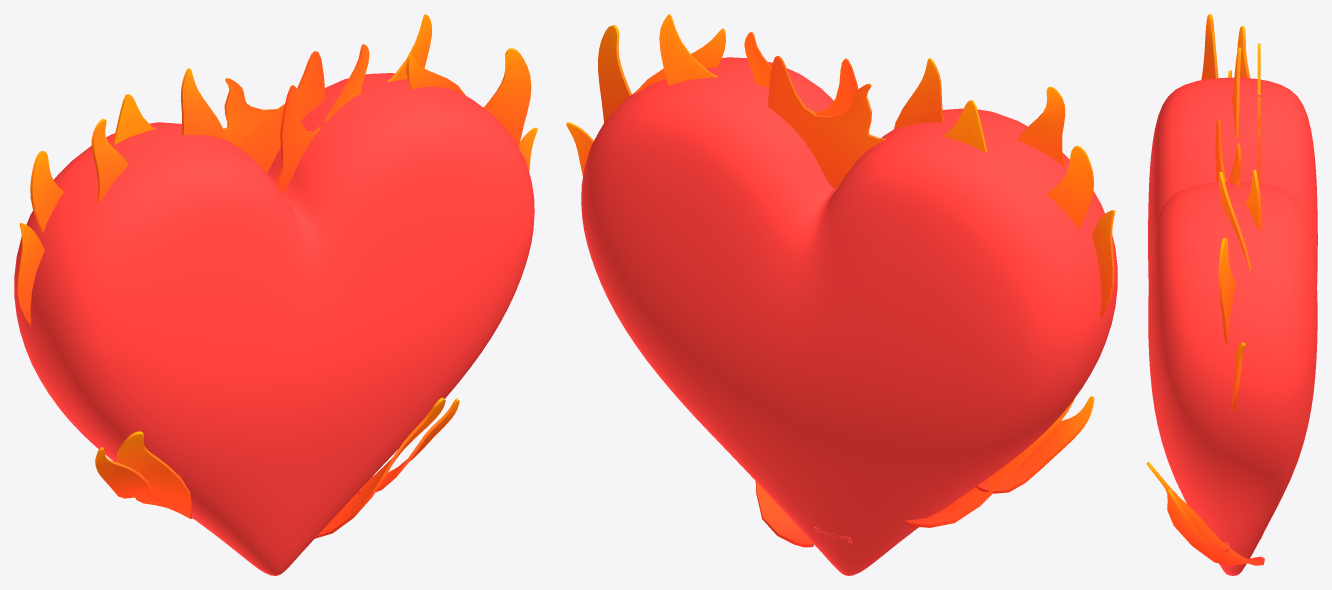
File: heart_on_fire.gltf
3 renders of one model, left to right at view 1: azimuth 30°, elevation 25°; view 2: azimuth 150°, elevation 25°; view 3: azimuth 270°, elevation 25°, orthographic. The views are drawn at different scales.
Parts seen in each view (by area): view 1: hfdjkslfjkds.016; view 2: hfdjkslfjkds.016; view 3: hfdjkslfjkds.016.
Boxes of the visible parts, x1,y1,x2,y2 form: hfdjkslfjkds.016: (14, 14, 537, 575); hfdjkslfjkds.016: (566, 14, 1117, 575); hfdjkslfjkds.016: (1146, 14, 1317, 575).
Bounding box in the file's own units: 1.99 × 1.9 × 0.6021.
1 material, 1 textured.
